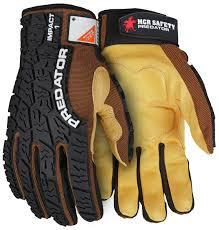gloves: (2, 2, 135, 227), (90, 8, 217, 224)
